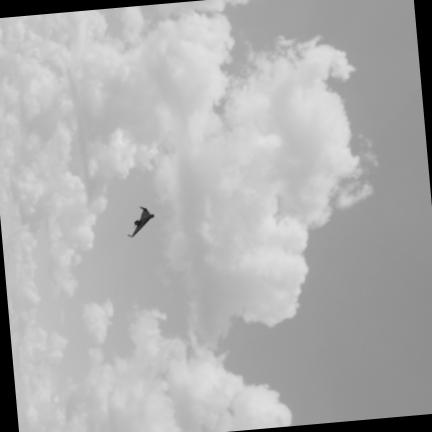Shahed: (128, 207, 153, 236)
